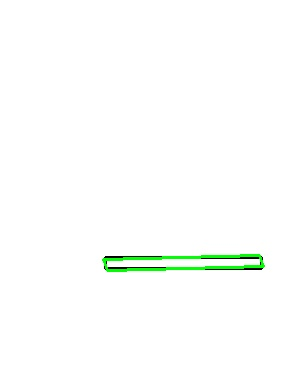line_segment: (103, 255, 264, 271)
